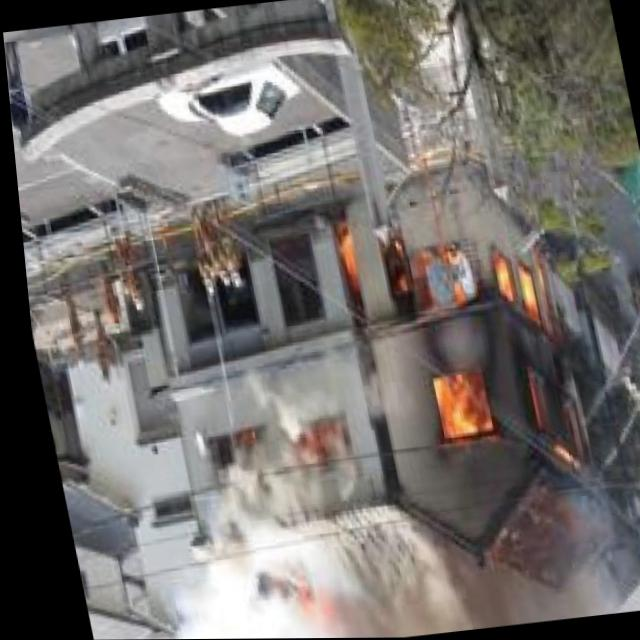Fire: (316, 190, 615, 497)
